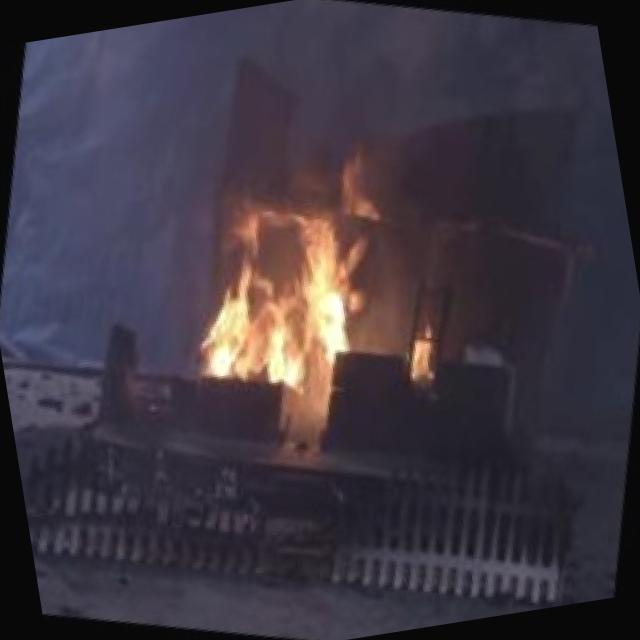fire: (162, 137, 419, 452)
